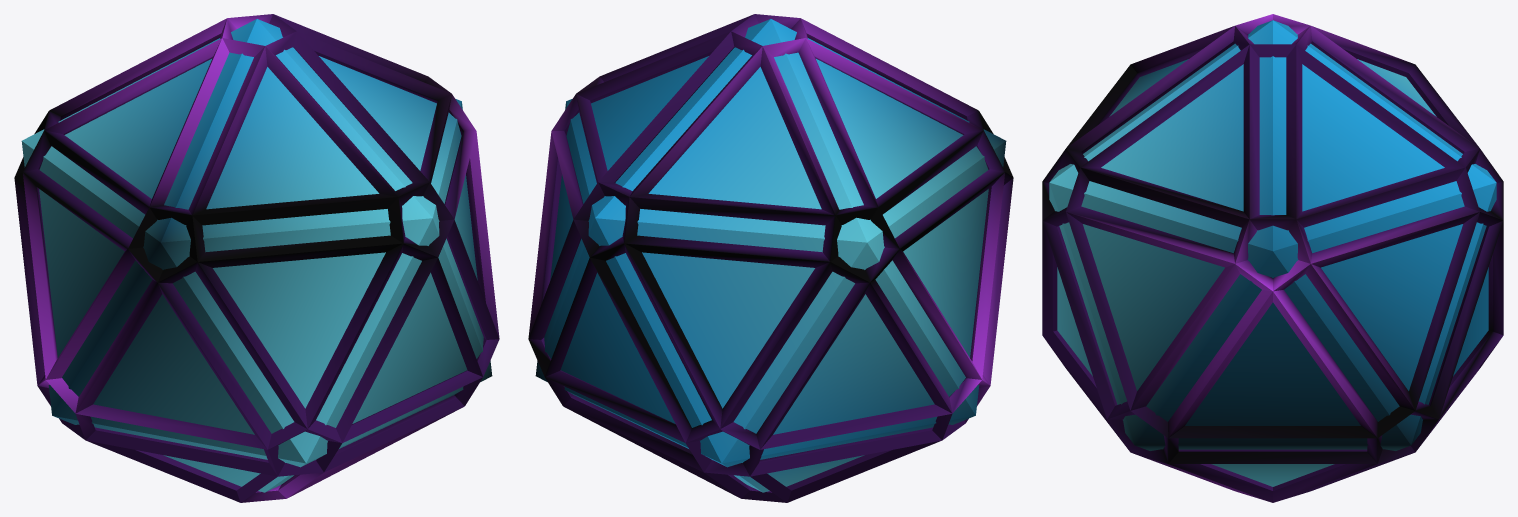
The model's file is Alien_sphere.fbx.
The picture shows the model from 3 angles, left to right: view 1: azimuth 30°, elevation 25°; view 2: azimuth 150°, elevation 25°; view 3: azimuth 270°, elevation 25°; orthographic projection.
Parts seen in each view (by area): view 1: Icosphere; view 2: Icosphere; view 3: Icosphere.
Part boxes in pixels (x1,y1,x2,y2): Icosphere: (14,14,499,502); Icosphere: (528,14,1013,502); Icosphere: (1042,14,1503,502).
Bounding box in the file's own units: 554 × 601 × 527.
